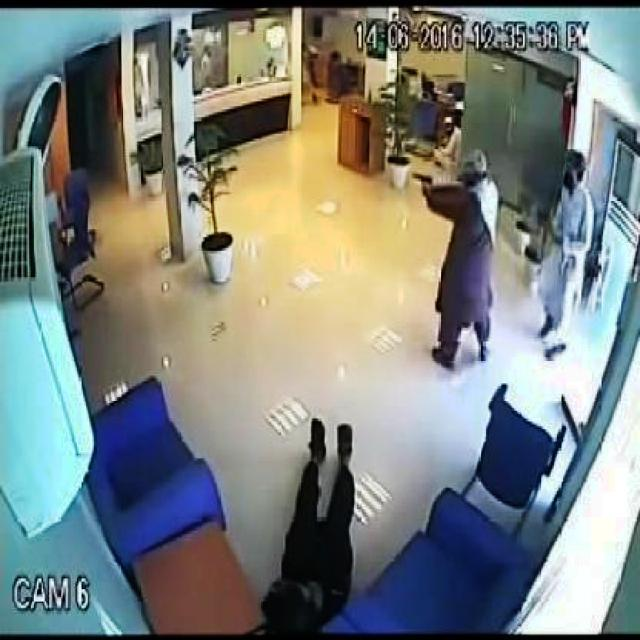Gun: (410, 167, 439, 191)
